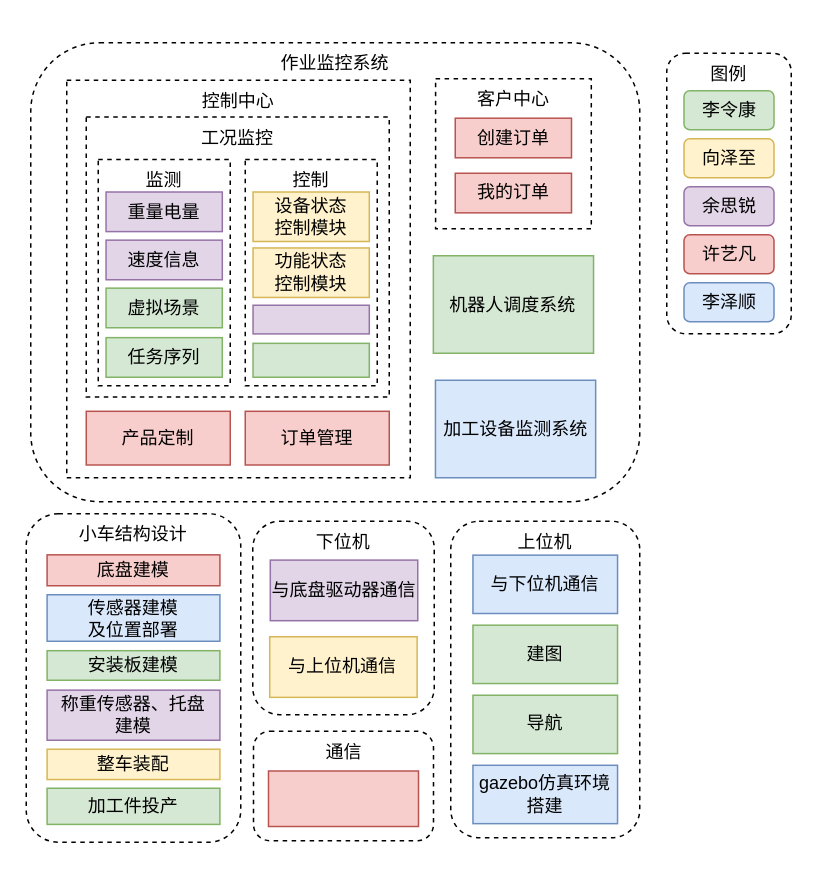
Some shapes in this 818 by 876 pixel diagram are drawn without their labels. Here are the shapes that lost their labels. From the top down, the centre of each, then its label:
At (x=310, y=319): "摇杆".
At (x=310, y=359): "启停按钮".
At (x=342, y=798): "通信协议约定".
